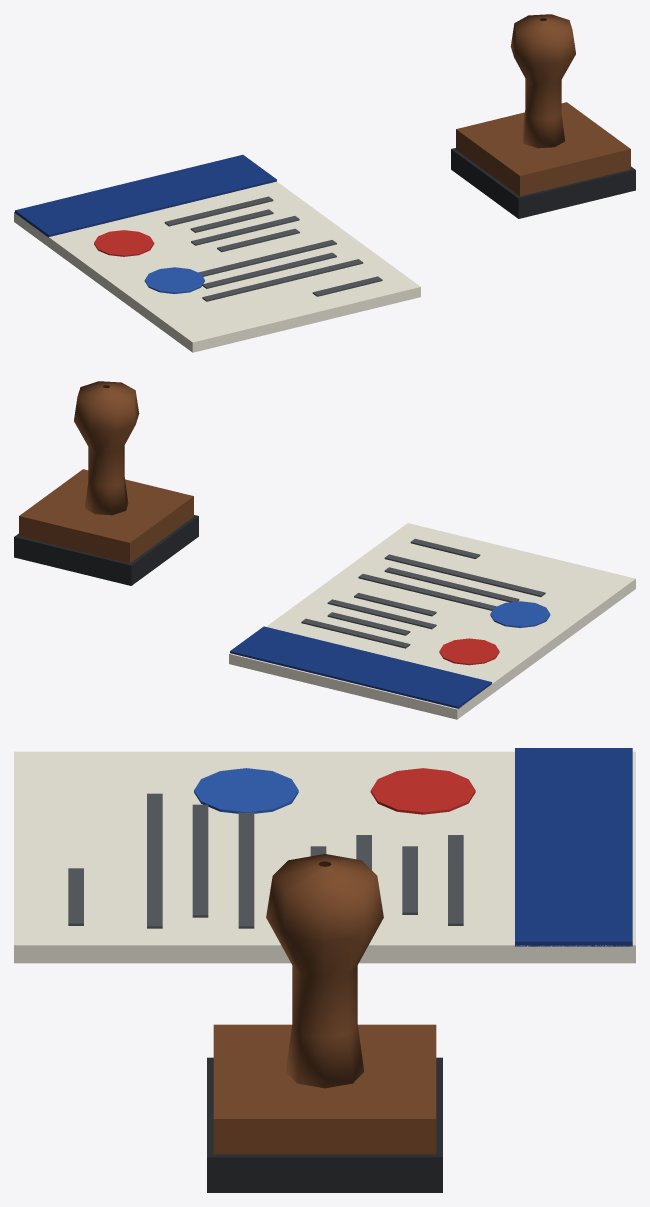
Rendered from docs.glb.
3 renders of one model, top to bottom at view 1: azimuth 30°, elevation 25°; view 2: azimuth 150°, elevation 25°; view 3: azimuth 270°, elevation 25°, orthographic. The views are drawn at different scales.
Visible parts, largest first — view 1: DocPaper, StampBase, Doc_Header, StampHandle, DocLines, StampPad, DocSealRed, DocSealBlue; view 2: DocPaper, StampBase, Doc_Header, StampHandle, DocLines, StampPad, DocSealBlue, DocSealRed; view 3: DocPaper, StampBase, Doc_Header, StampHandle, StampPad, DocLines, DocSealRed, DocSealBlue.
Part boxes in pixels (x1=…): DocPaper: x1=14, y1=181, x2=420, y2=352; StampBase: x1=456, y1=102, x2=630, y2=196; Doc_Header: x1=15, y1=154, x2=276, y2=237; StampHandle: x1=510, y1=14, x2=575, y2=148; DocLines: x1=164, y1=196, x2=382, y2=301; StampPad: x1=451, y1=148, x2=635, y2=218; DocSealRed: x1=94, y1=230, x2=154, y2=256; DocSealBlue: x1=144, y1=267, x2=204, y2=293; DocPaper: x1=229, y1=523, x2=635, y2=719; StampBase: x1=19, y1=469, x2=193, y2=563; Doc_Header: x1=230, y1=626, x2=491, y2=708; StampHandle: x1=74, y1=381, x2=139, y2=515; DocLines: x1=301, y1=538, x2=545, y2=648; StampPad: x1=14, y1=515, x2=198, y2=585; DocSealBlue: x1=490, y1=601, x2=550, y2=627; DocSealRed: x1=439, y1=638, x2=499, y2=665; DocPaper: x1=14, y1=751, x2=635, y2=963; StampBase: x1=213, y1=1024, x2=436, y2=1154; Doc_Header: x1=515, y1=748, x2=632, y2=946; StampHandle: x1=266, y1=854, x2=383, y2=1088; StampPad: x1=207, y1=1057, x2=442, y2=1192; DocLines: x1=68, y1=793, x2=463, y2=928; DocSealRed: x1=370, y1=768, x2=475, y2=814; DocSealBlue: x1=194, y1=768, x2=298, y2=813.
Bounding box in the file's own units: 1.53 × 0.47 × 0.95.
